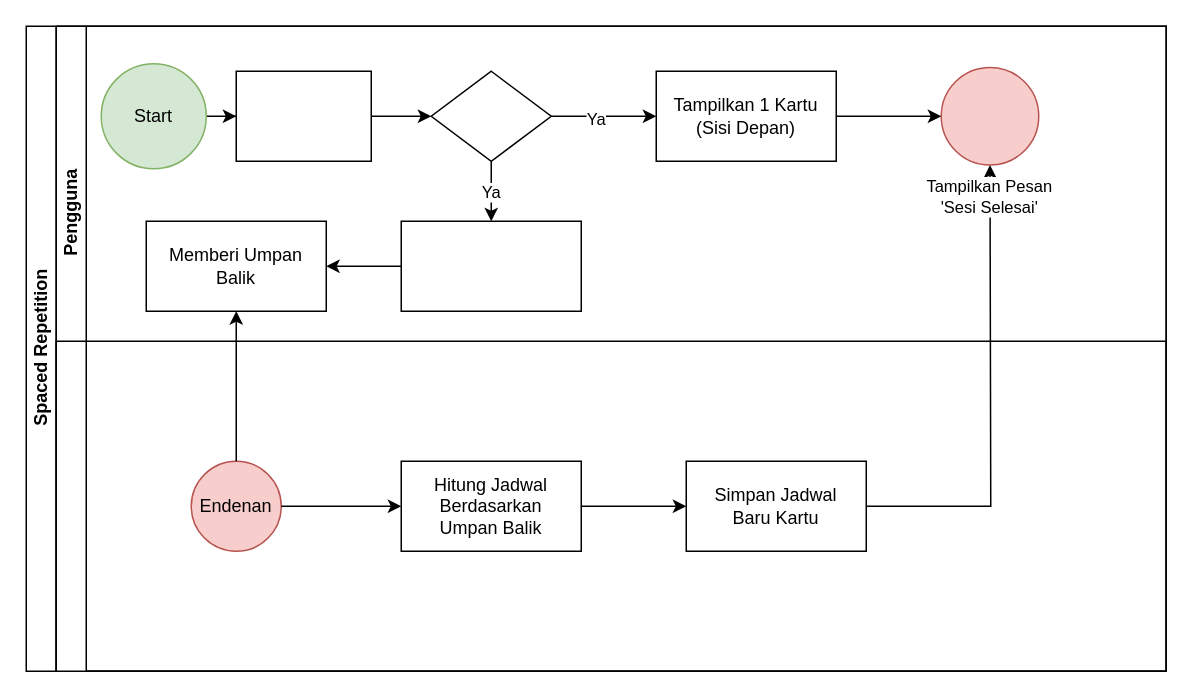
Image size: 1193x698. Some labels were removed from this diagram. Here are the shapes that lost their labels. From the top down, the box of each, then its label:
(235, 70, 371, 161): Memulai Sesi Belajar
(430, 70, 551, 161): Ada Kartu
(400, 220, 581, 311): Tampilkan 1 Kartu (Sisi Belakang)
(55, 340, 1166, 671): Sistem
